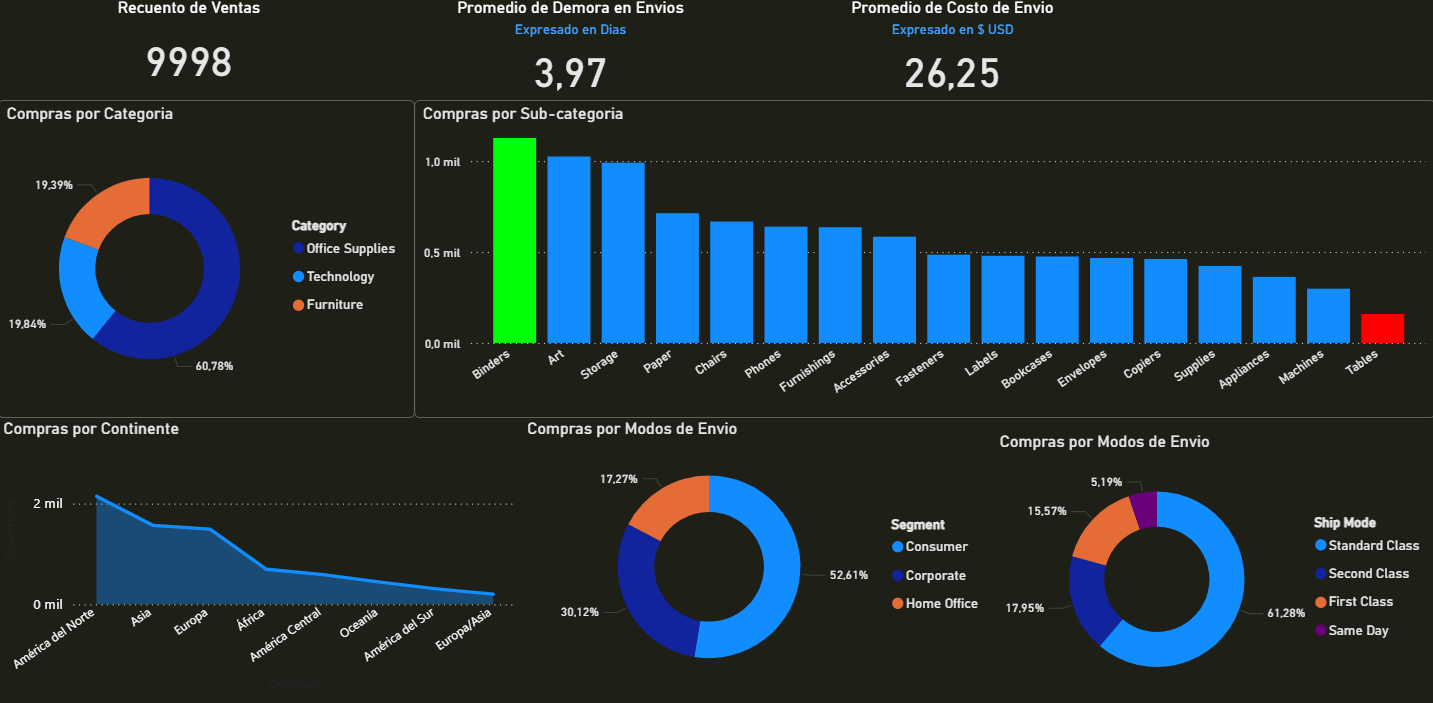

This screenshot's page, from the dashboard's own definition file:
{"tool":"powerbi","page":{"name":"Análisis de Clientes","canvas":[1280,720],"ordinal":3},"visuals":[{"type":"image","box":[1212.6,0,67.6,67.6],"z":0},{"type":"textbox","box":[67.6,0,201.1,85.2],"z":1000},{"type":"areaChart","title":"Compras por Continente","fields":{"Category":["Country (COUNT-ID).Continent"],"Y":["Medidas.Countrows"]},"box":[0,461.7,466.4,247.3],"z":2000},{"type":"donutChart","title":"Compras por Modos de Envio","fields":{"Category":["Ship Mode.Ship Mode"],"Y":["superstore_dataset.Countrows"]},"box":[887.5,472.7,392.9,247.3],"z":3000},{"type":"card","title":"Recuento de Ventas","fields":{"Values":["superstore_dataset.Recuento de ventas"]},"box":[0,86.9,340,91.3],"z":4000},{"type":"slicer","title":"Pais","fields":{"Values":["Country (COUNT-ID).Country"]},"box":[233.6,0,194,86],"z":5000},{"type":"slicer","title":"Pais","fields":{"Values":["Locations.City"]},"box":[424.1,0,194,86],"z":6000},{"type":"card","title":"Promedio de Demora en Envios","fields":{"Values":["superstore_dataset.PromedioTiempoDeEnvio"]},"box":[339.8,86.9,340.7,91.3],"z":7000},{"type":"donutChart","title":"Compras por Modos de Envio","fields":{"Category":["Segment.Segment"],"Y":["superstore_dataset.ComprasPorSegmento"]},"box":[466.4,461.7,421,247.3],"z":8000},{"type":"card","title":"Promedio de Costo de Envio","fields":{"Values":["superstore_dataset.Costo Envio Promedio"]},"box":[680.5,86.9,339.8,91.3],"z":9000},{"type":"donutChart","title":"Compras por Categoria","fields":{"Y":["superstore_dataset.Countrows"],"Category":["Category (CAT-ID).Category"]},"box":[0,178.4,371,283.3],"z":10000},{"type":"clusteredColumnChart","title":"Compras por Sub-categoria","fields":{"Category":["Sub-Category (SUBC-ID).Sub-Category"],"Y":["superstore_dataset.Countrows"]},"box":[371,178.4,909.4,283.3],"z":11000},{"type":"image","box":[618.1,0,57.1,43],"z":12000},{"type":"image","box":[1077.4,0,67.6,67.6],"z":13000},{"type":"image","box":[1009.8,0,67.6,67.6],"z":14000},{"type":"image","box":[0,0,67.6,85.2],"z":15000},{"type":"image","box":[1145,0,67.6,67.6],"z":16000}]}

Visuals, with their boxes on the page's 1280x720 design canvas (x1, y1, x2, y2). These are canvas units, not pixel positions in the 1433x703 screenshot, which may show the page scaled, cropped or inside an application window:
image: select_region(1213, 0, 1280, 68)
textbox: select_region(68, 0, 269, 85)
"Compras por Continente" areaChart: select_region(0, 462, 466, 709)
"Compras por Modos de Envio" donutChart: select_region(888, 473, 1280, 720)
"Recuento de Ventas" card: select_region(0, 87, 340, 178)
"Pais" slicer: select_region(234, 0, 428, 86)
"Pais" slicer: select_region(424, 0, 618, 86)
"Promedio de Demora en Envios" card: select_region(340, 87, 680, 178)
"Compras por Modos de Envio" donutChart: select_region(466, 462, 887, 709)
"Promedio de Costo de Envio" card: select_region(680, 87, 1020, 178)
"Compras por Categoria" donutChart: select_region(0, 178, 371, 462)
"Compras por Sub-categoria" clusteredColumnChart: select_region(371, 178, 1280, 462)
image: select_region(618, 0, 675, 43)
image: select_region(1077, 0, 1145, 68)
image: select_region(1010, 0, 1077, 68)
image: select_region(0, 0, 68, 85)
image: select_region(1145, 0, 1213, 68)
